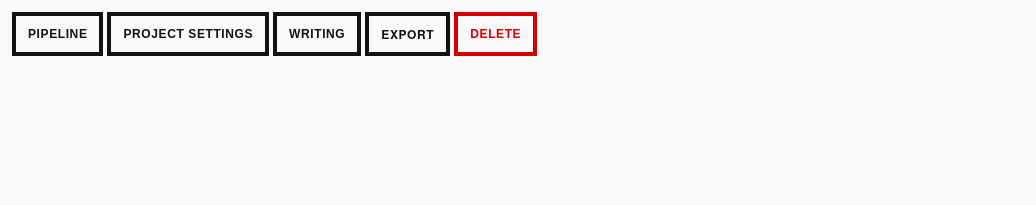
ProjectActions › pipeline › closes on escape and on a press outside it
Click the button "Pipeline": click(58, 34) [12,12,104,56]
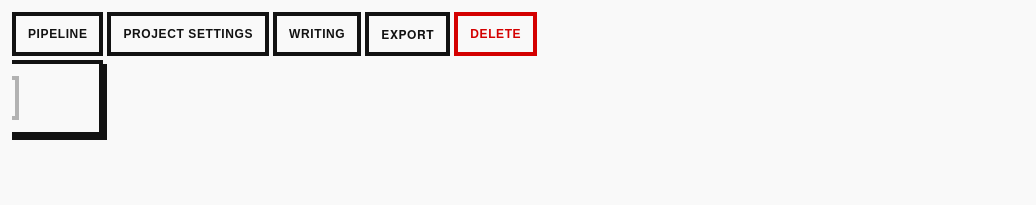
Press Escape
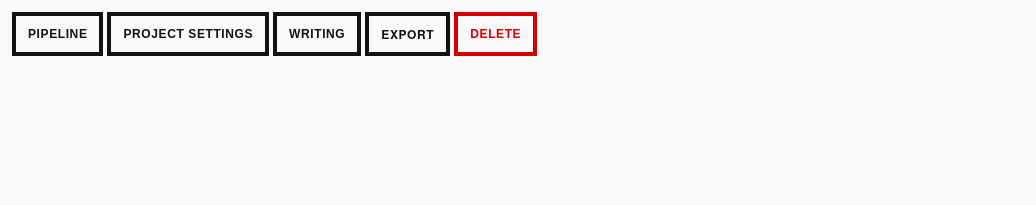
Now the button "Run full pipeline" is gone
Click the button "Pipeline": click(58, 34) [12,12,104,56]
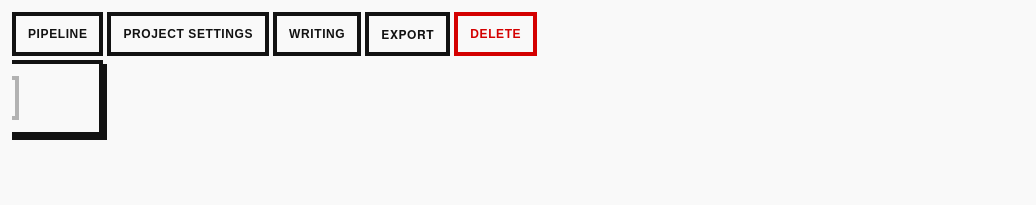
Press the mouse on the element that starts with "Pipeline": (524, 34) [12,12,1035,56]
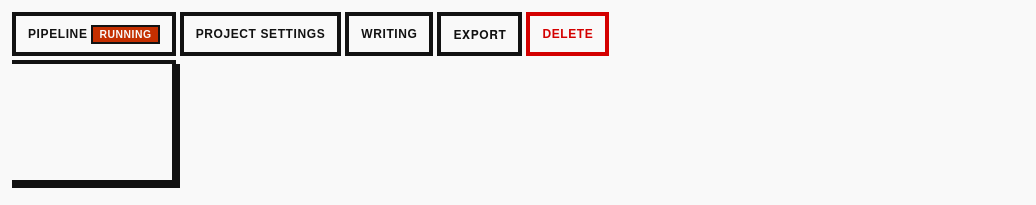
Now the button "Run full pipeline" is gone
